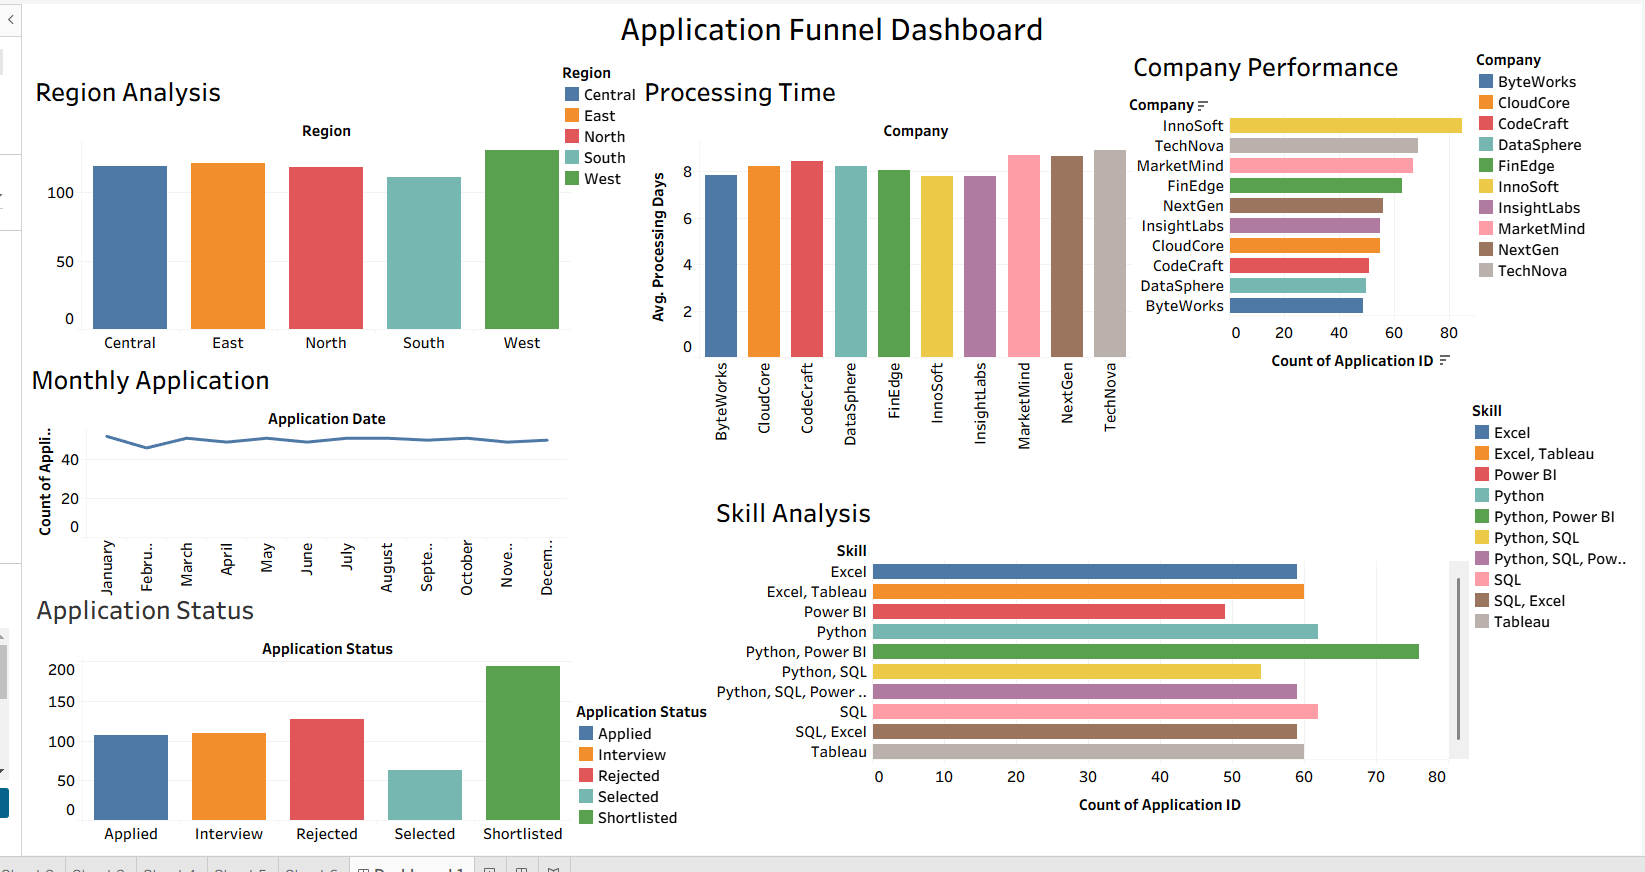

Layout of this report page (visuals, bound fields, positions):
{"tool":"tableau","page":{"name":"Dashboard 1","canvas":[1620,860],"ordinal":0},"visuals":[{"type":"title","box":[8,8,1604,49]},{"type":"worksheet","title":"Sheet 3","mark":"Automatic","rows":["Company"],"cols":["Application_ID"],"box":[1107,50,347,336]},{"type":"legend","title":"Sheet 3","param":"[federated.0u8wi9015tgl0e15onarp0u30gpf].[none:Company:nk]","box":[1454,54,140,232]},{"type":"legend","title":"Sheet 5","param":"[federated.0u8wi9015tgl0e15onarp0u30gpf].[none:Region:nk]","box":[540,67,81,132]},{"type":"worksheet","title":"Sheet 5","mark":"Automatic","rows":["Application_ID"],"cols":["Region"],"box":[9,75,540,284]},{"type":"worksheet","title":"Sheet 6","mark":"Automatic","rows":["Processing_Days"],"cols":["Company"],"box":[618,75,492,387]},{"type":"worksheet","title":"Sheet 2","mark":"Automatic","rows":["Application_ID"],"cols":["Application_Date"],"box":[5,363,540,239]},{"type":"legend","title":"Sheet 4","param":"[federated.0u8wi9015tgl0e15onarp0u30gpf].[none:Skill:nk]","box":[1450,405,166,232]},{"type":"worksheet","title":"Sheet 4","mark":"Automatic","rows":["Skill"],"cols":["Application_ID"],"box":[690,496,757,331]},{"type":"worksheet","title":"Sheet 1","mark":"Automatic","rows":["Application_ID"],"cols":["Application_Status"],"box":[10,593,540,257]},{"type":"legend","title":"Sheet 1","param":"[federated.0u8wi9015tgl0e15onarp0u30gpf].[none:Application_Status:nk]","box":[554,706,140,127]}]}

Visuals, with their boxes on the page's 1620x860 design canvas (x1, y1, x2, y2). These are canvas units, not pixel positions in the 1645x872 screenshot, which may show the page scaled, cropped or inside an application window:
title: box=[8, 8, 1612, 57]
"Sheet 3" worksheet: box=[1107, 50, 1454, 386]
"Sheet 3" legend: box=[1454, 54, 1594, 286]
"Sheet 5" legend: box=[540, 67, 621, 199]
"Sheet 5" worksheet: box=[9, 75, 549, 359]
"Sheet 6" worksheet: box=[618, 75, 1110, 462]
"Sheet 2" worksheet: box=[5, 363, 545, 602]
"Sheet 4" legend: box=[1450, 405, 1616, 637]
"Sheet 4" worksheet: box=[690, 496, 1447, 827]
"Sheet 1" worksheet: box=[10, 593, 550, 850]
"Sheet 1" legend: box=[554, 706, 694, 833]
